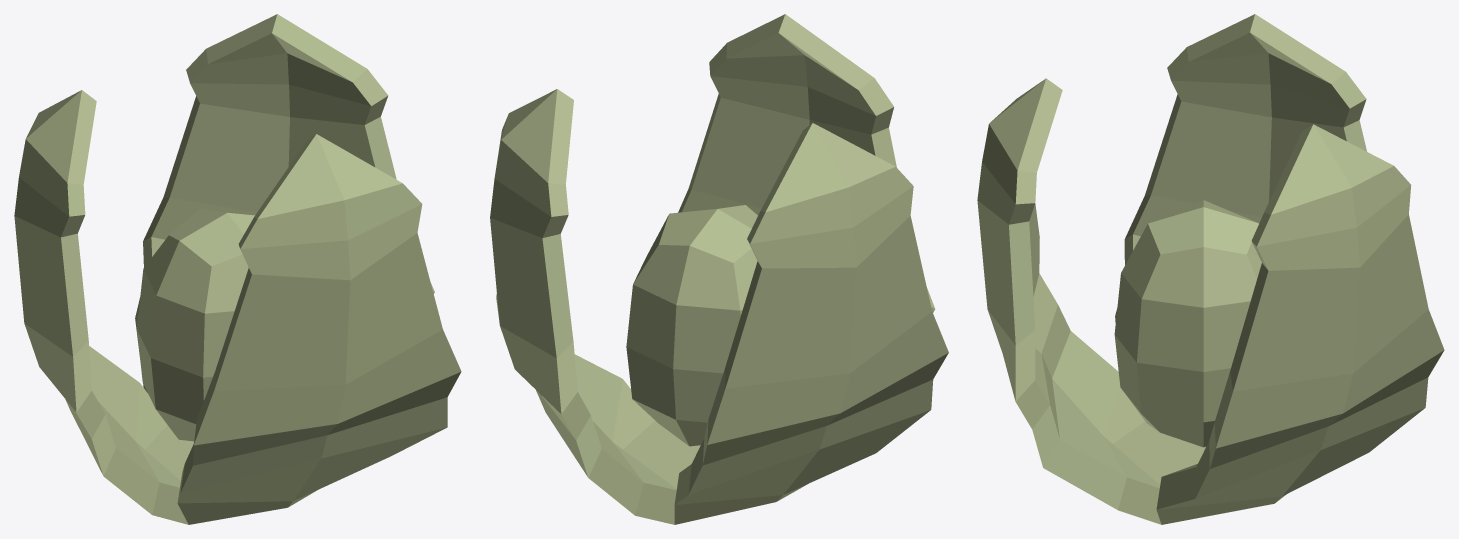
File: lettuce_2.glb
3 renders of one model, left to right at view 1: azimuth 30°, elevation 25°; view 2: azimuth 150°, elevation 25°; view 3: azimuth 270°, elevation 25°, orthographic.
Visible parts, largest first — view 1: Lettuce_2; view 2: Lettuce_2; view 3: Lettuce_2.
Part boxes in pixels (x1,y1,x2,y2): Lettuce_2: (14, 14, 461, 524); Lettuce_2: (490, 14, 948, 524); Lettuce_2: (977, 14, 1444, 524).
Bounding box in the file's own units: 0.3689 × 0.354 × 0.3673.
